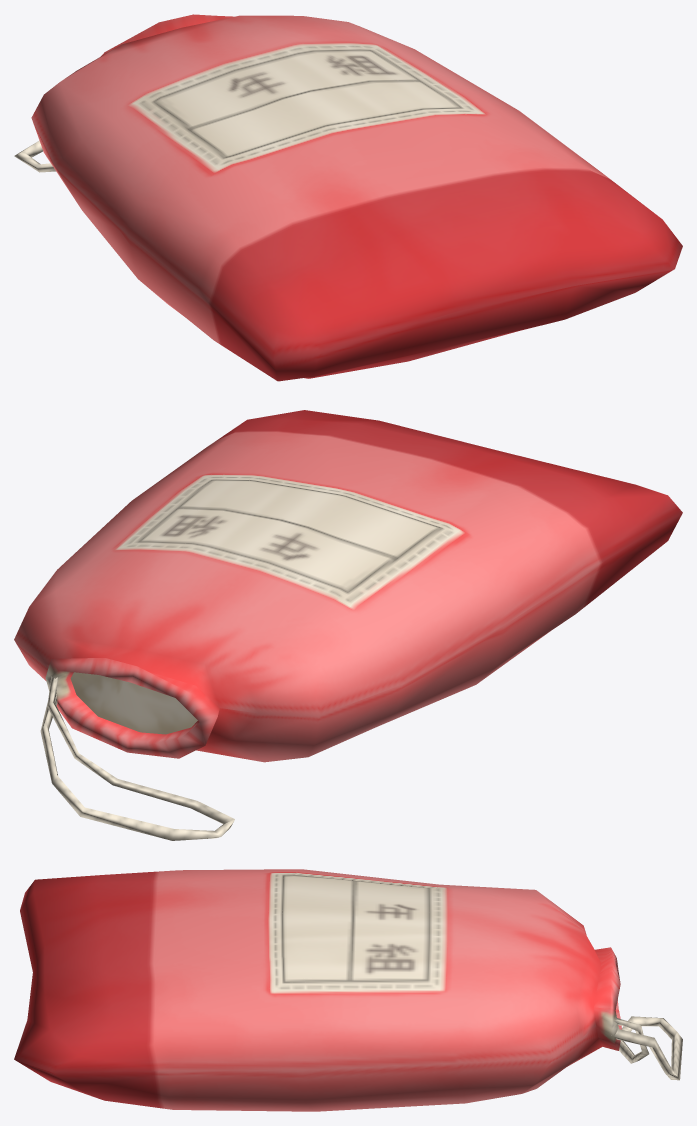
Rendered from Bag_R_01_01.fbx.
3 views of the same model, one above another, from view 1: azimuth 30°, elevation 25°; view 2: azimuth 150°, elevation 25°; view 3: azimuth 270°, elevation 25° (orthographic). The views are drawn at different scales.
Visible parts, largest first — view 1: bag_R_01_01; view 2: bag_R_01_01; view 3: bag_R_01_01.
Part boxes in pixels (bbox=[...]): bag_R_01_01: bbox=[14, 14, 682, 381]; bag_R_01_01: bbox=[14, 410, 682, 840]; bag_R_01_01: bbox=[14, 869, 682, 1111].
Bounding box in the file's own units: 21.81 × 9.12 × 34.41.
